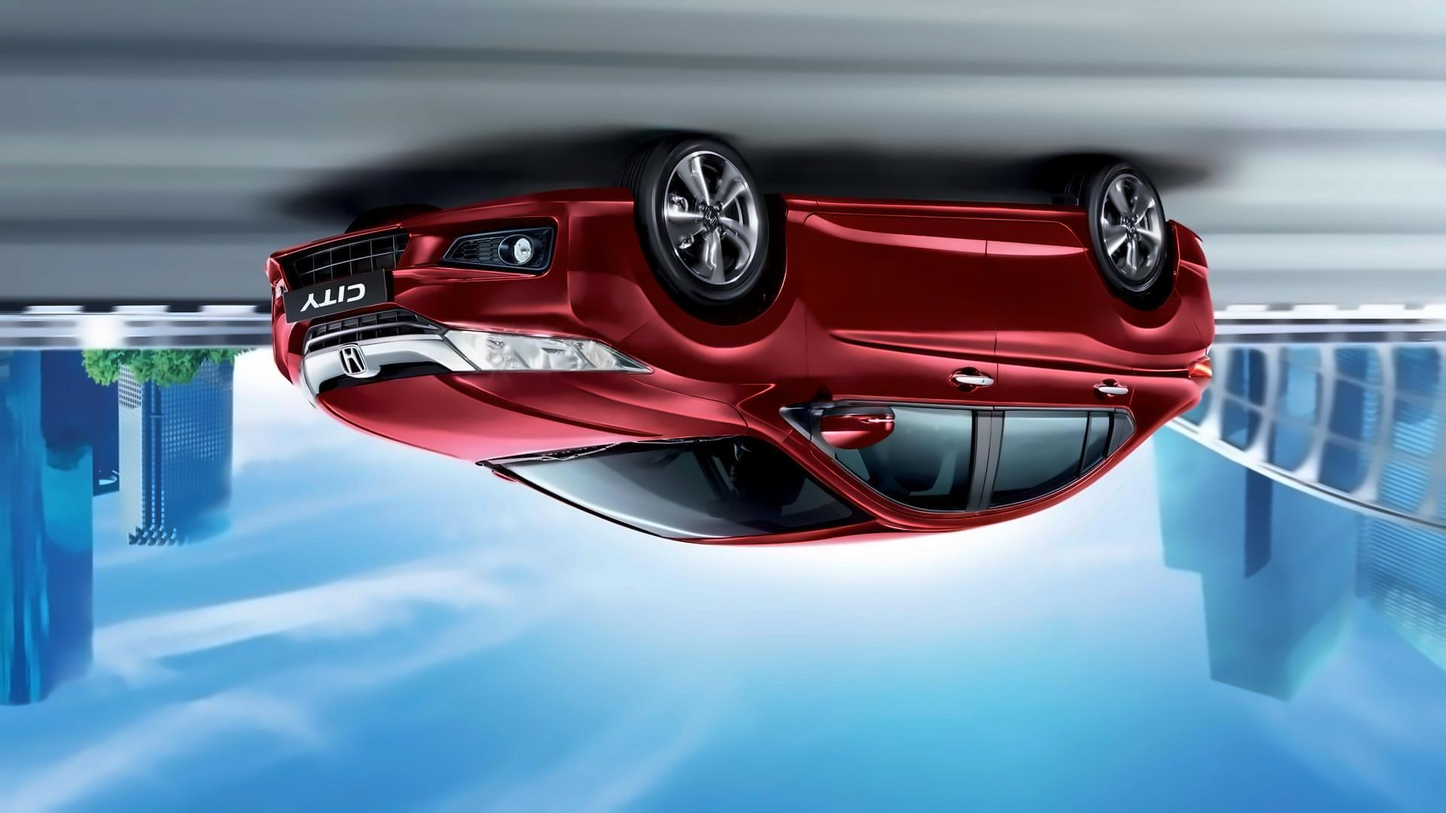Car hood: (310, 365, 751, 459)
Driver-s door - -F-R-: (788, 178, 1000, 539)
Fender - -F-R-: (638, 203, 810, 444)
Fender - -R-R-: (1085, 212, 1207, 444)
Front bumper: (263, 190, 669, 370)
Headlight - -R-: (446, 328, 653, 375)
Passenger-s door - -R-R-: (968, 176, 1139, 533)
Rear bumper: (1166, 206, 1221, 357)
Side bumper - -R-: (770, 181, 1097, 253)
Side mirror - -R-: (794, 396, 897, 453)
